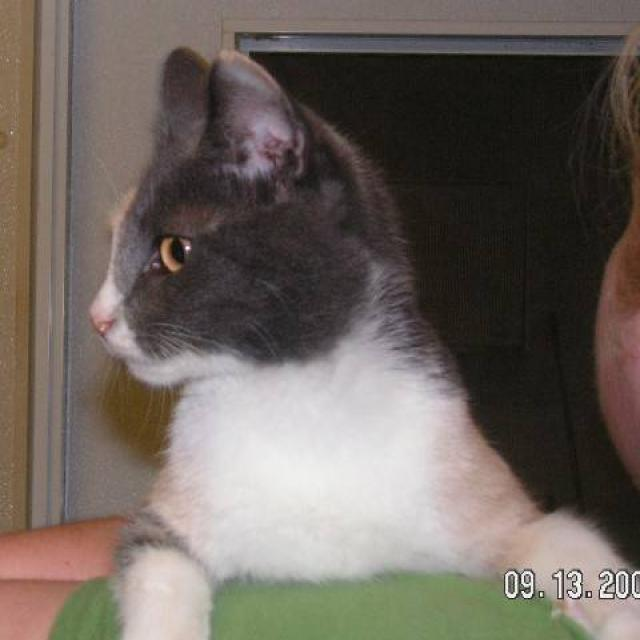Cat: (79, 58, 411, 406)
